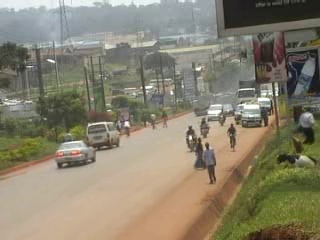Car: (53, 138, 97, 168), (204, 102, 222, 123), (221, 102, 235, 117)
Motorcycle: (184, 122, 199, 153), (198, 116, 210, 139), (218, 107, 226, 126)
